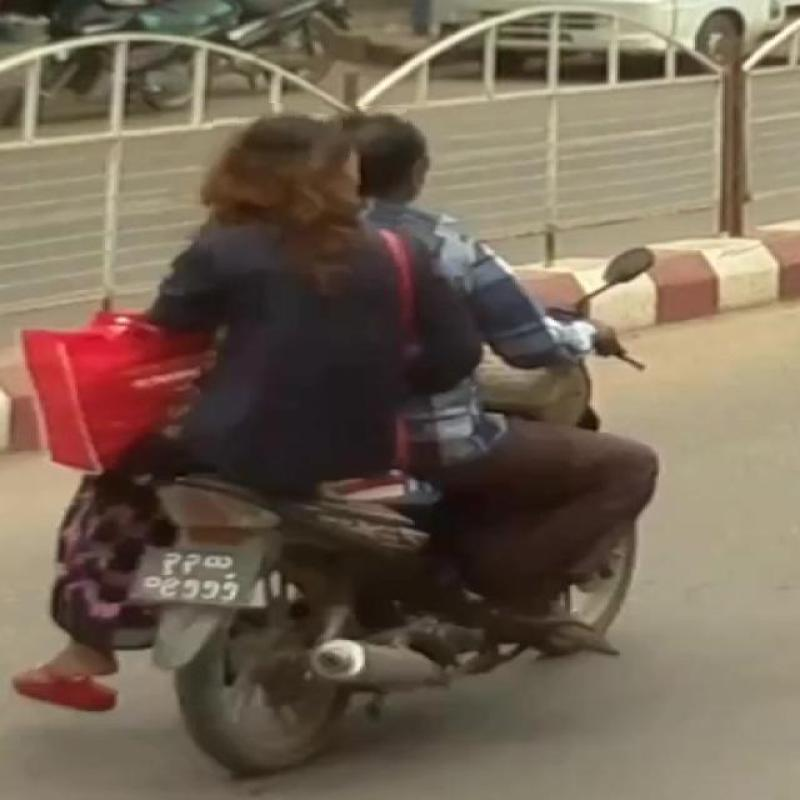nohelmet: (210, 103, 406, 266)
